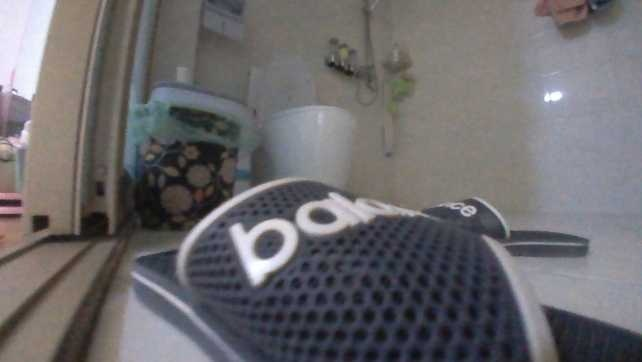door_sill: (0, 228, 127, 361)
slipper: (120, 174, 641, 360), (414, 188, 592, 260)
toilet: (246, 51, 356, 193)
trash_can: (130, 98, 240, 239)
